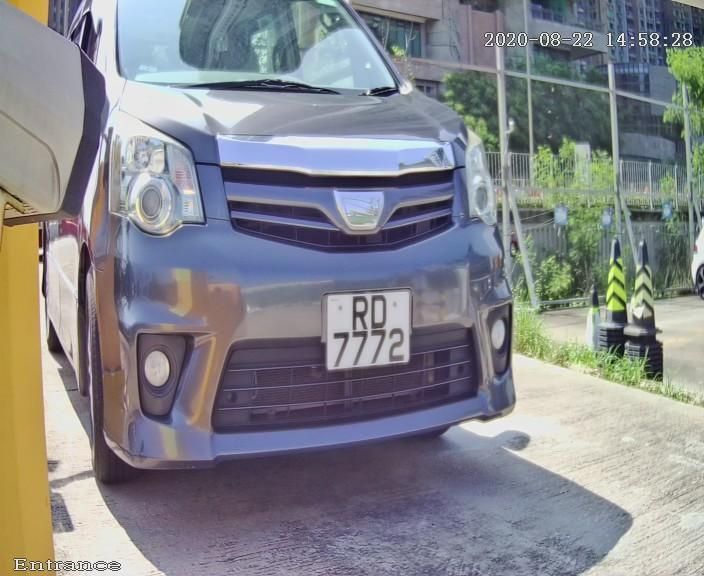License Plate: (315, 273, 419, 389)
